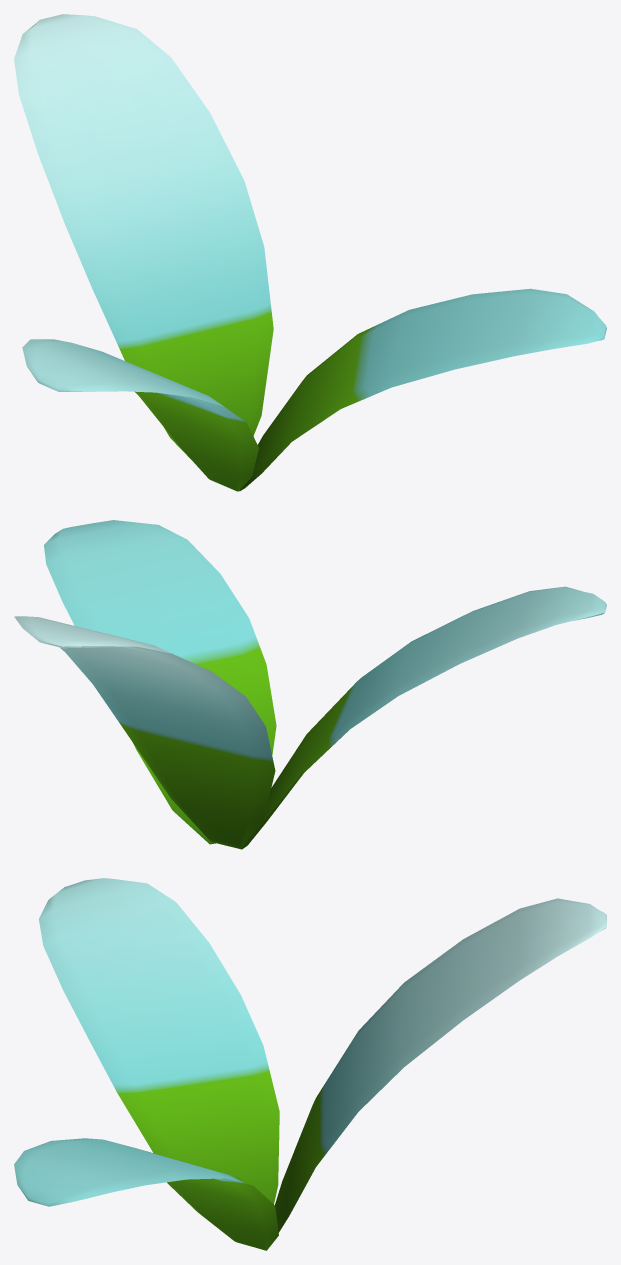
Rendered from plant.fbx.
3 views of the same model, one above another, from view 1: azimuth 30°, elevation 25°; view 2: azimuth 150°, elevation 25°; view 3: azimuth 270°, elevation 25° (orthographic). The views are drawn at different scales.
Visible parts, largest first — view 1: plant; view 2: plant; view 3: plant.
Boxes of the visible parts, x1,y1,x2,y2 form: plant: [14, 14, 606, 491]; plant: [14, 520, 606, 849]; plant: [14, 878, 606, 1250].
Bounding box in the file's own units: 0.8273 × 0.4825 × 0.7951.
